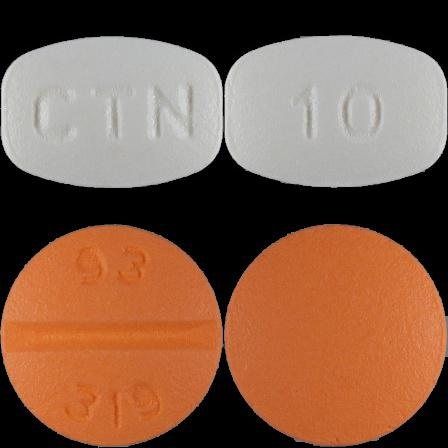35356-864: (0, 0, 224, 224)
